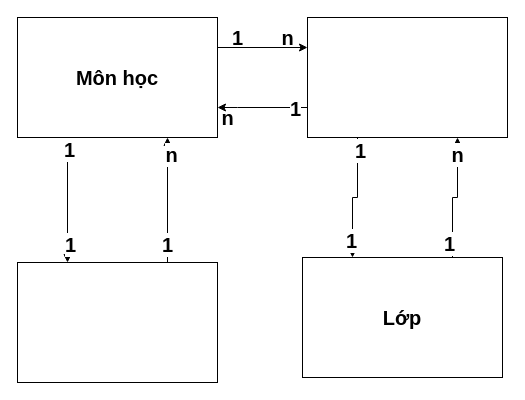
The diagram is 525 pixels wide and 400 high, and some of its shapes have lost their labels. Here are the shapes that lost their labels. From the top down, the centre of each, then its label:
At (407,77): "Sinh viên".
At (117,322): "Phòng học".
